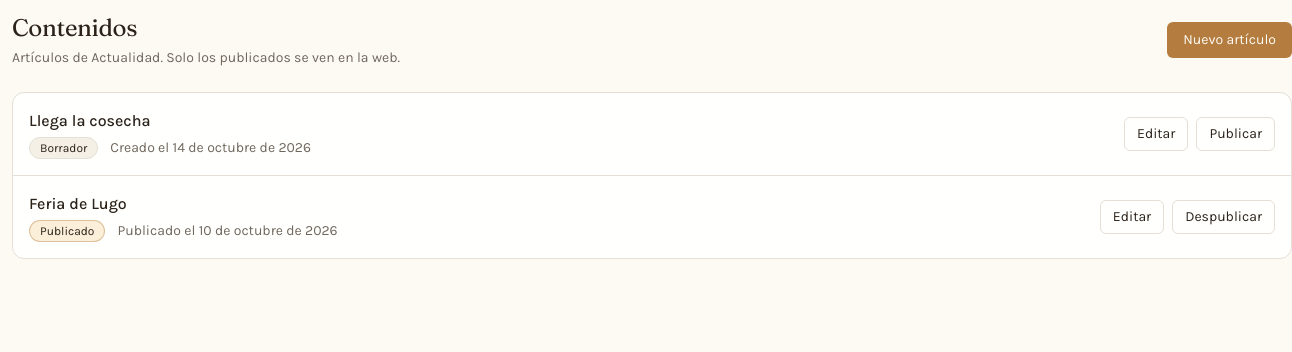
Scenario: AdminArticlesView › publica un borrador y lo confirma
Click the button "Publicar": click(1236, 134) [1196,117,1275,151]
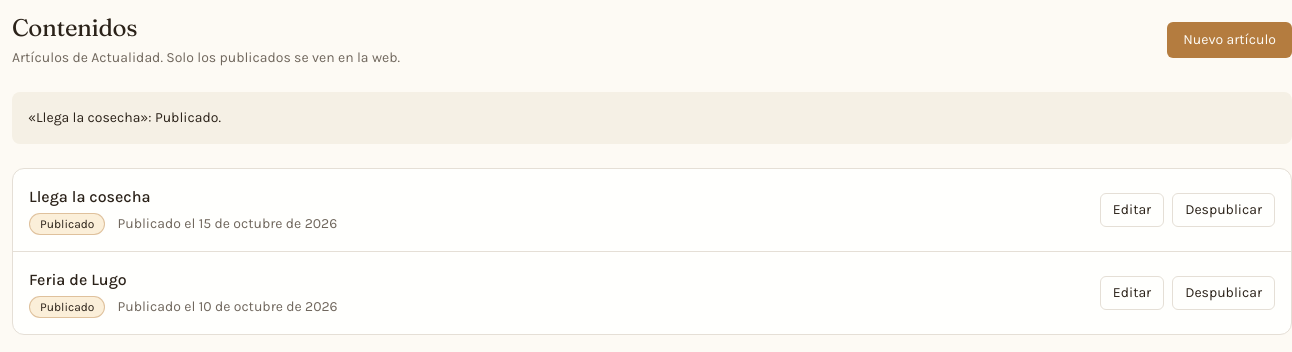
Result: the message "«Llega la cosecha»: Publicado." is shown at [12,92,1291,144]
